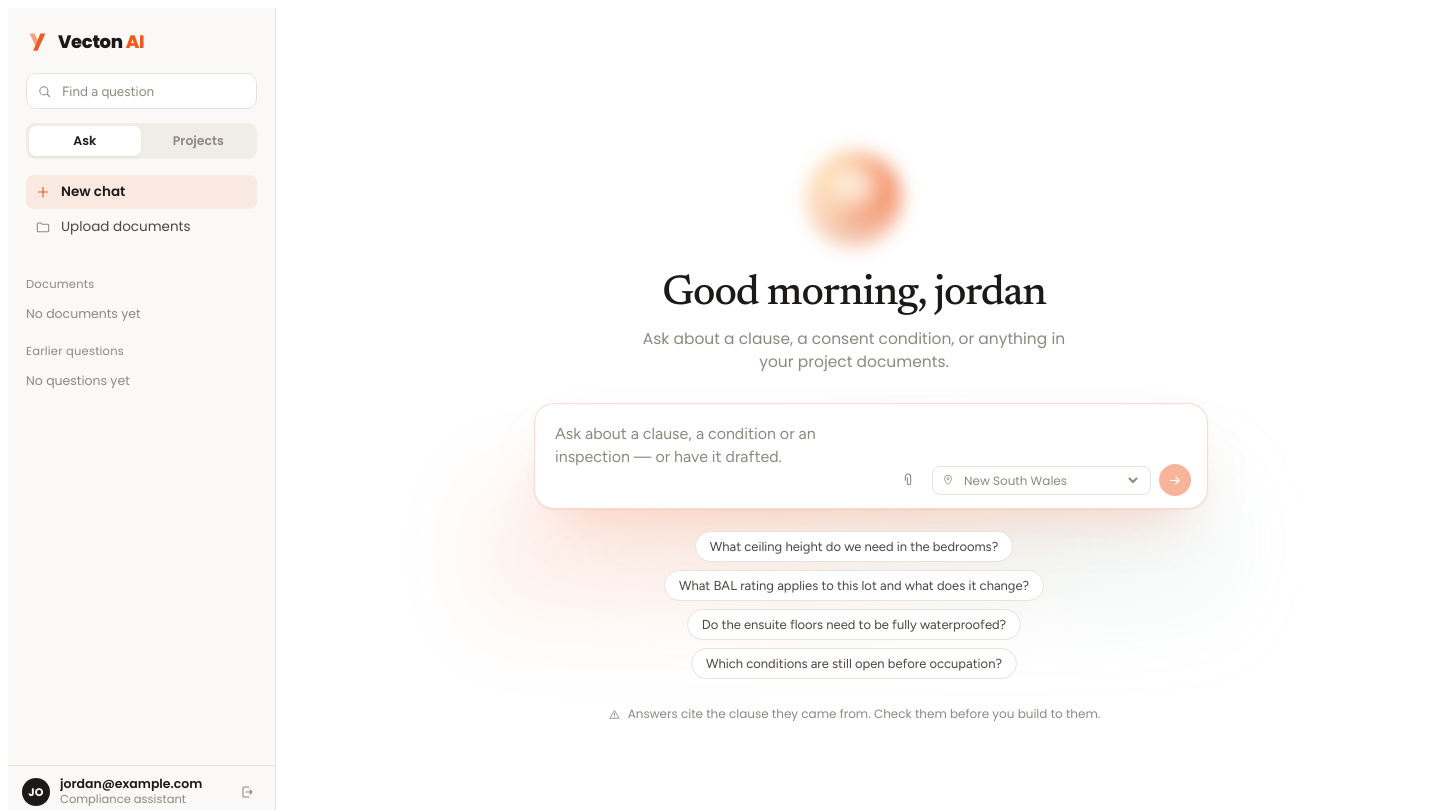
Test: App › starting a chat from the home page navigates to the chat page and asks the question
Step 1. Replace the text in the text box with placeholder "Ask about a clause" with "What is the max riser height?" → (718, 458), box [551,420,884,496]
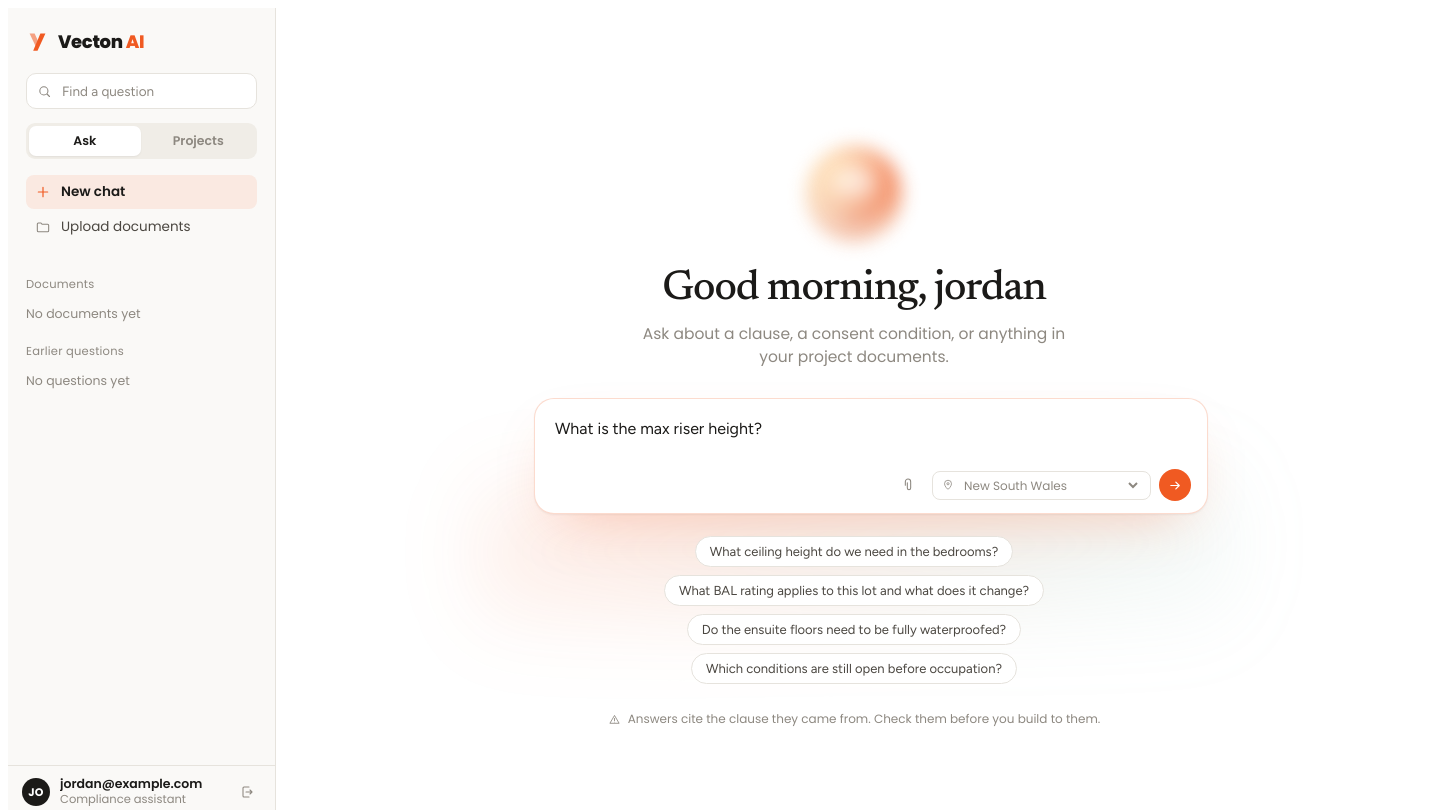
Step 2. Submit the form with placeholder "ask about a clause", box [534,398,1208,514]
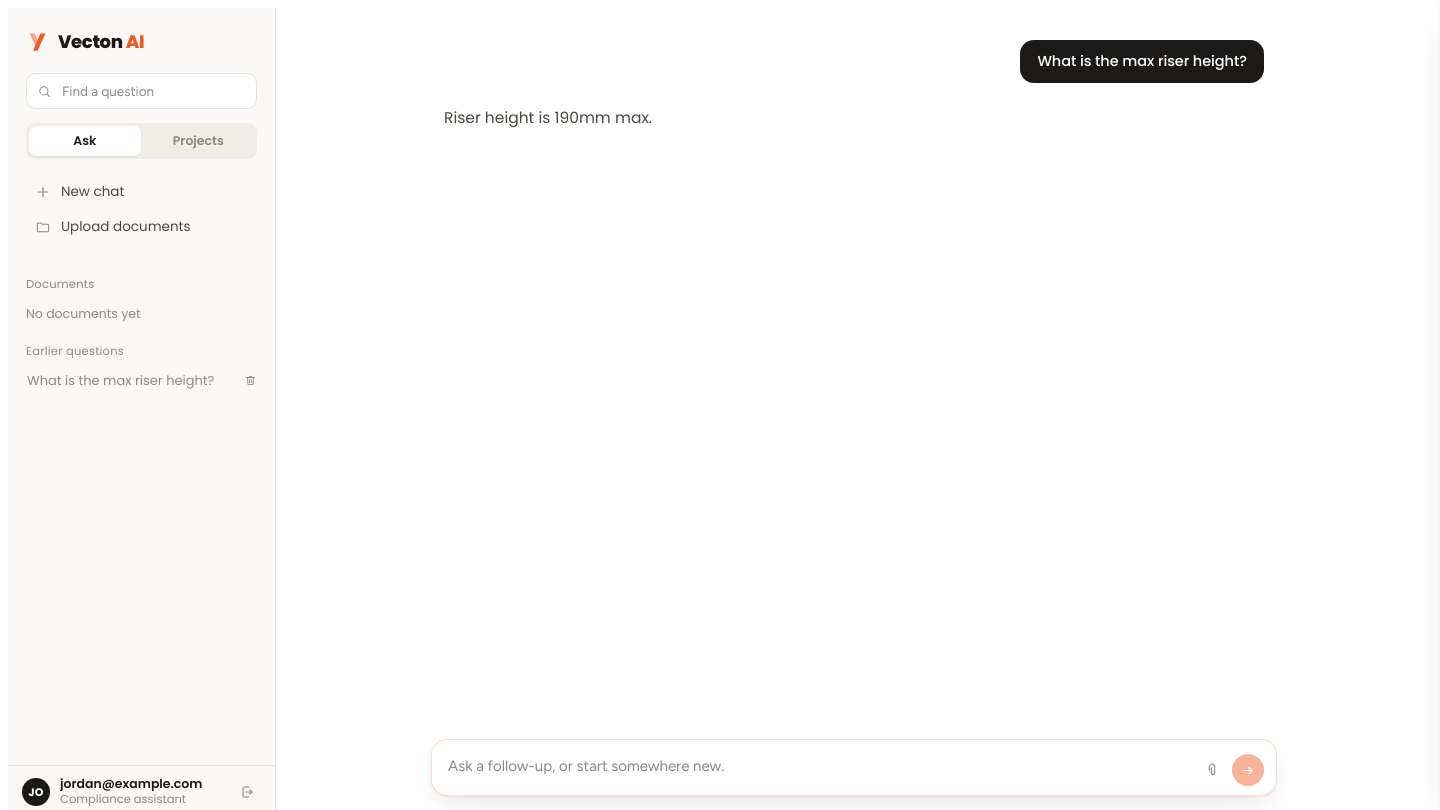
Expected: the text "Riser height is 190mm max." is shown, [444,107,652,128]
Expected: the link "What is the max riser height?" is shown, [27,371,214,390]
